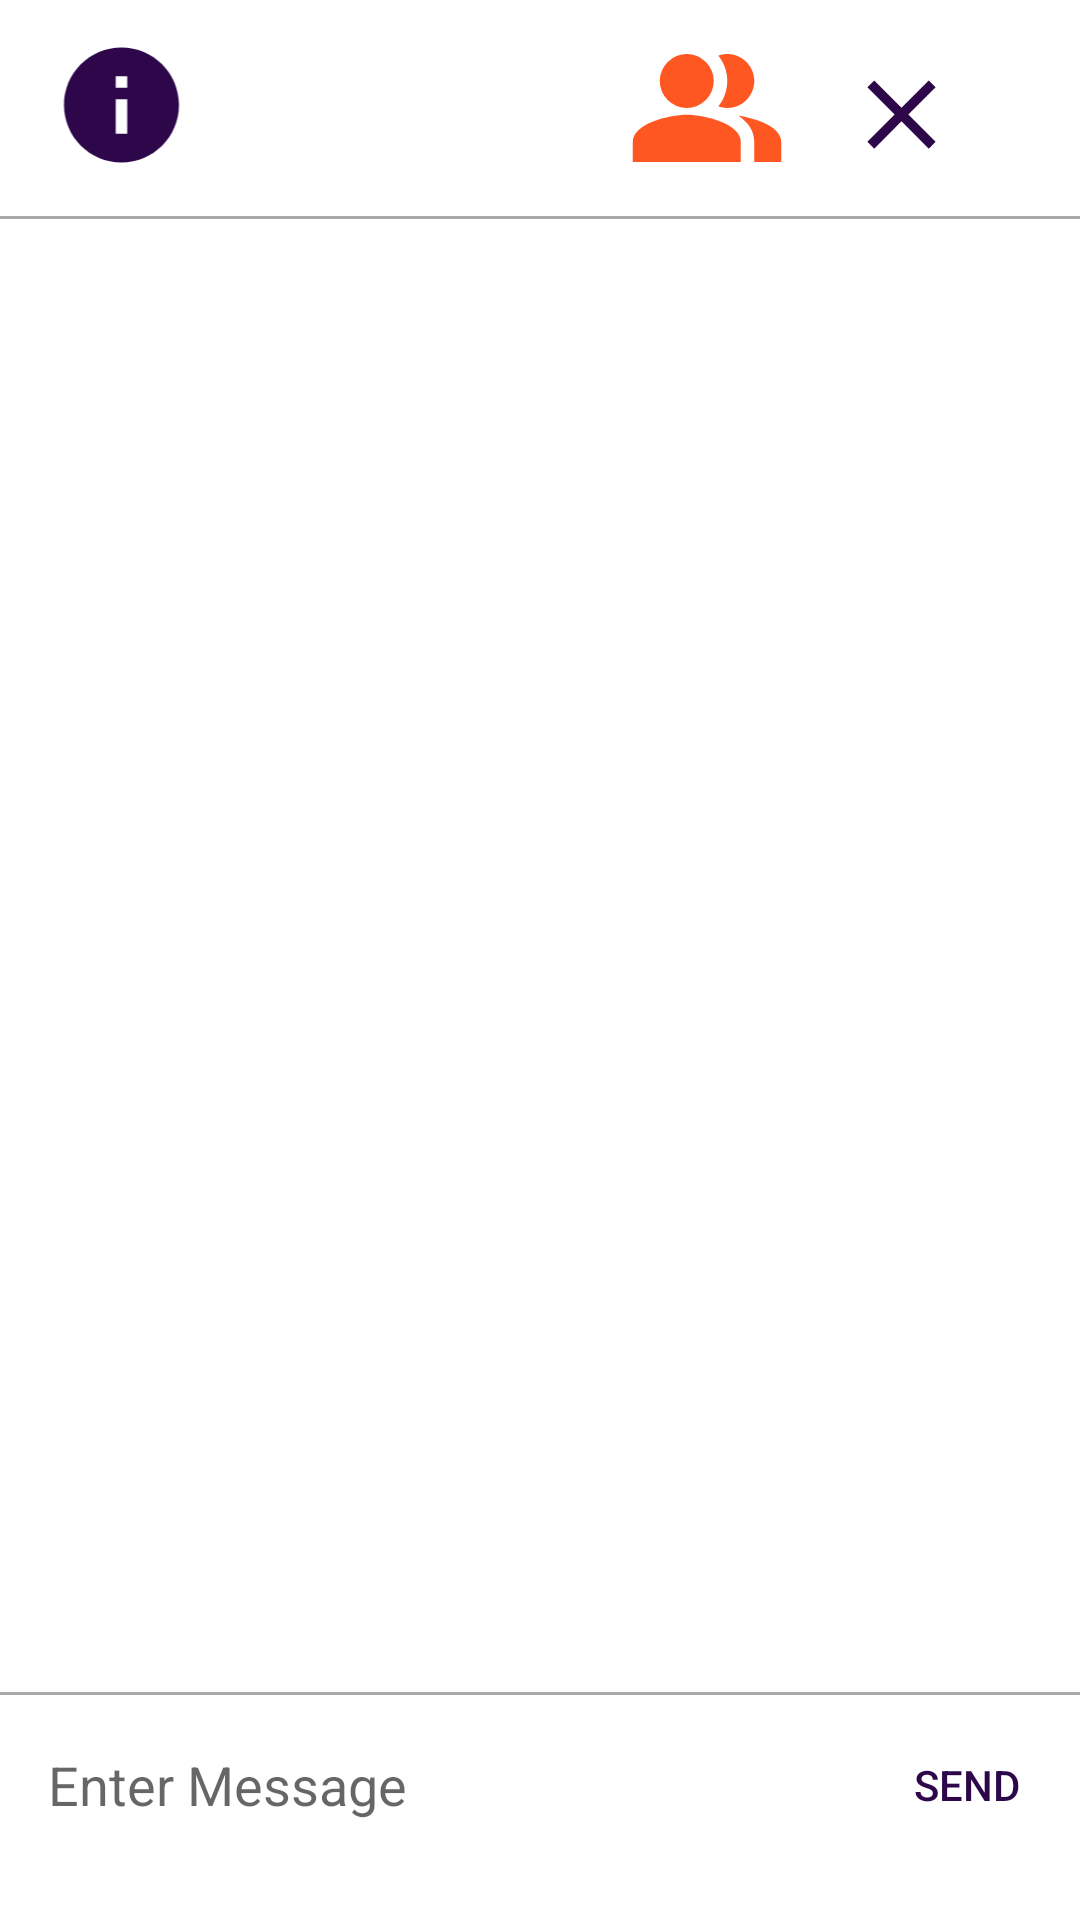

Where icons sit on this 1080 x 1920 app screen, as (left=x1, top=y1, right=x2, bottom=y2):
info: (left=63, top=47, right=180, bottom=163)
leave event: (left=867, top=80, right=936, bottom=149)
people: (left=632, top=54, right=782, bottom=162)
